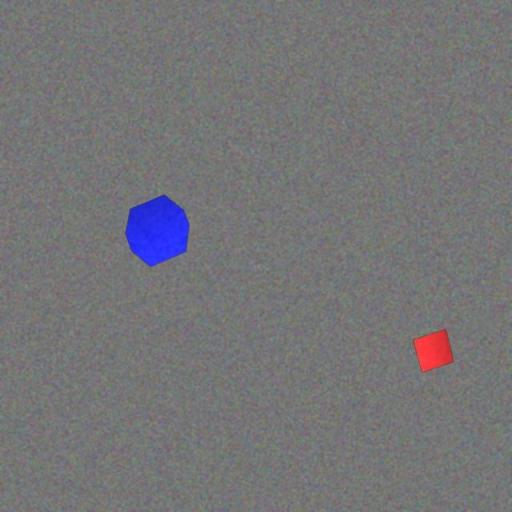RED_SQUARE: (412, 328, 454, 374)
